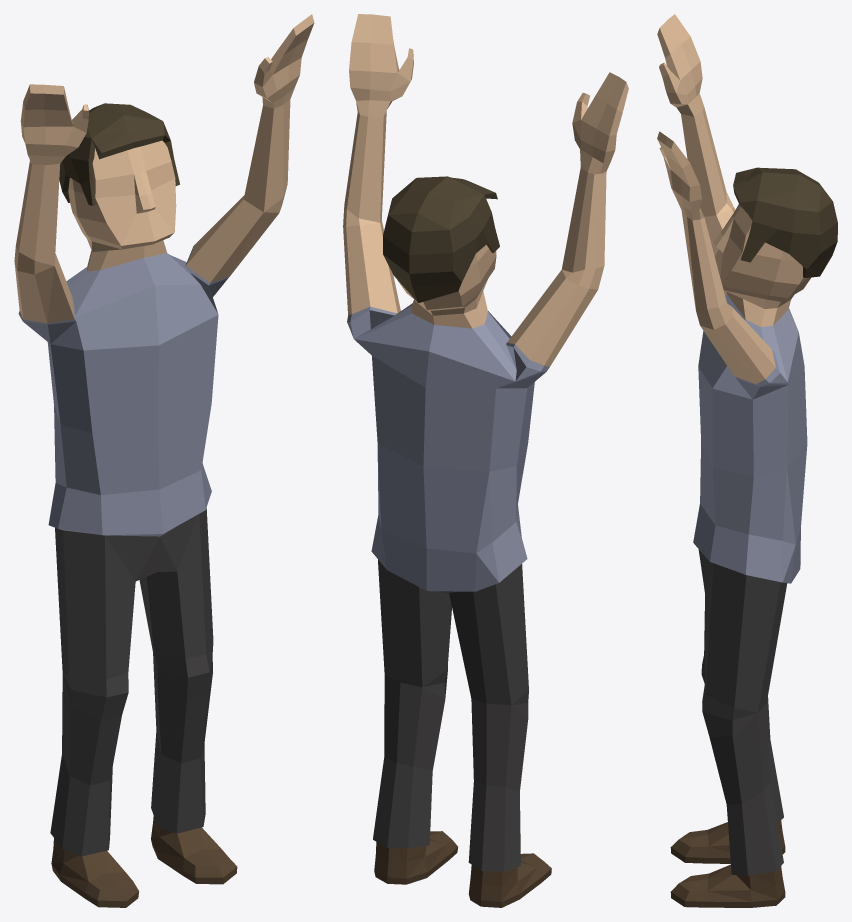
Rendered from Male_Crowd_BothFistsUp.glb.
The picture shows the model from 3 angles, left to right: view 1: azimuth 30°, elevation 25°; view 2: azimuth 150°, elevation 25°; view 3: azimuth 270°, elevation 25°; orthographic projection. The views are drawn at different scales.
Visible parts, largest first — view 1: Male_Crowd_BothFistsUp; view 2: Male_Crowd_BothFistsUp; view 3: Male_Crowd_BothFistsUp.
Boxes of the visible parts, x1,y1,x2,y2 form: Male_Crowd_BothFistsUp: (14,14,314,907); Male_Crowd_BothFistsUp: (343,14,628,907); Male_Crowd_BothFistsUp: (657,14,837,907).
Bounding box in the file's own units: 0.7124 × 2.03 × 0.4176.
